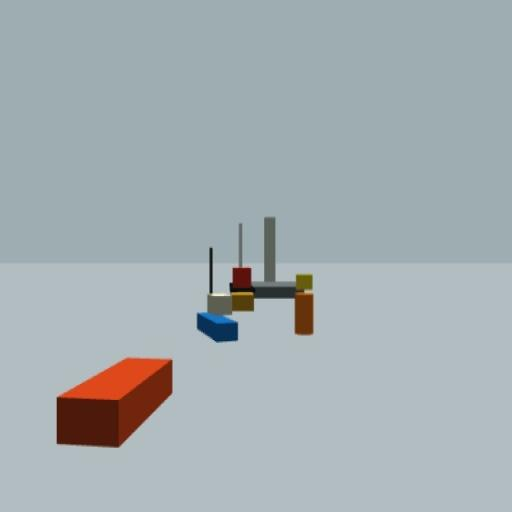buoy: (56, 357, 176, 447), (294, 273, 314, 338)
fishing_boat: (196, 246, 239, 344)
platform: (252, 215, 302, 298)
vessel: (228, 224, 254, 310)
